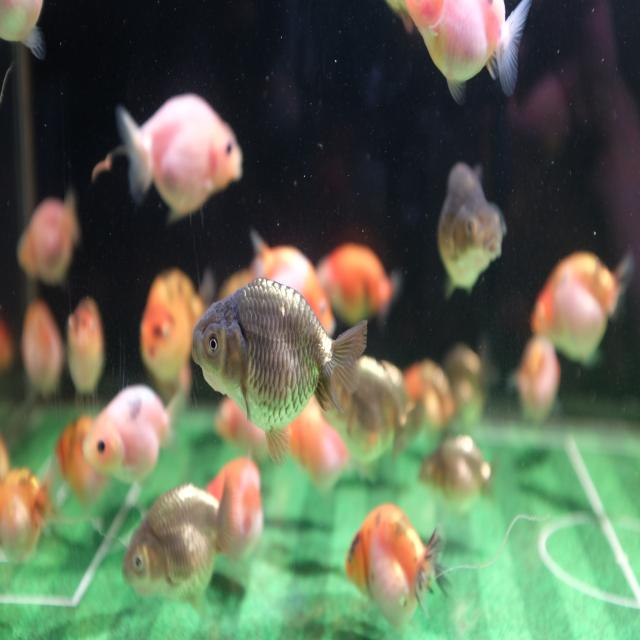Tilapia: (192, 275, 372, 473), (90, 91, 244, 226), (119, 470, 238, 620), (387, 0, 532, 105), (341, 501, 454, 634), (529, 249, 630, 364), (81, 383, 186, 493), (437, 160, 508, 300), (248, 230, 336, 338), (140, 265, 212, 391), (315, 242, 405, 326), (16, 193, 82, 292), (0, 462, 57, 570)
